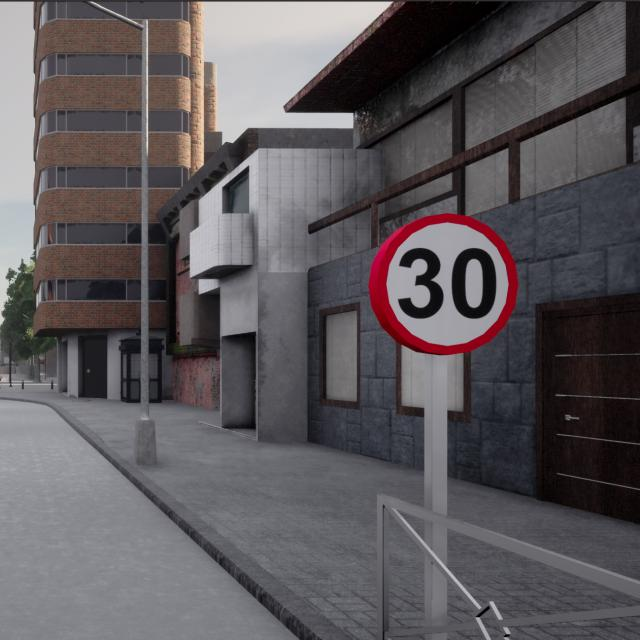Speed Limit -30-: (370, 214, 519, 356)
